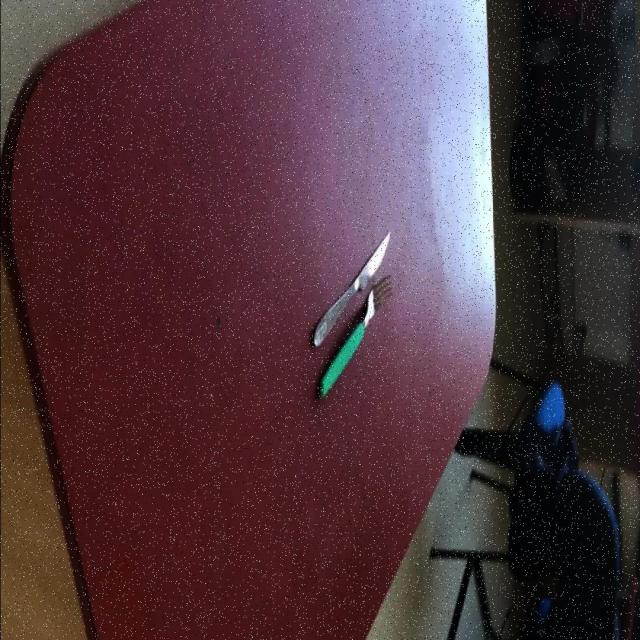Fork: (318, 275, 394, 401)
Knife: (312, 232, 396, 402), (318, 275, 394, 401), (313, 233, 392, 350)
